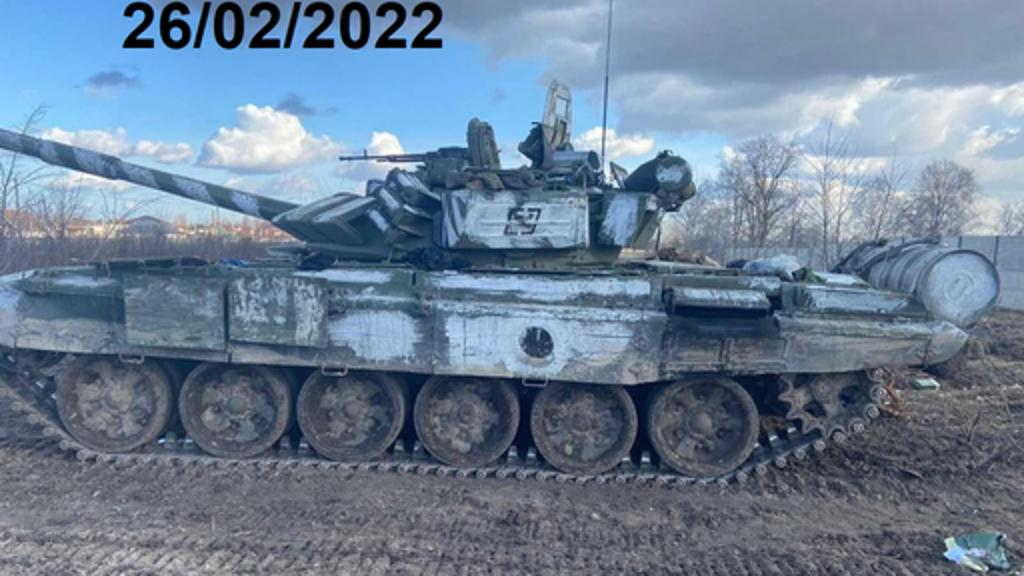TANK: (0, 80, 988, 484)
